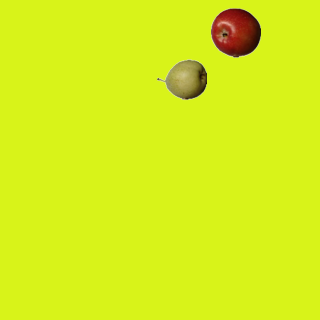Apple Braeburn: (210, 7, 260, 57)
Pear: (156, 54, 206, 104)
